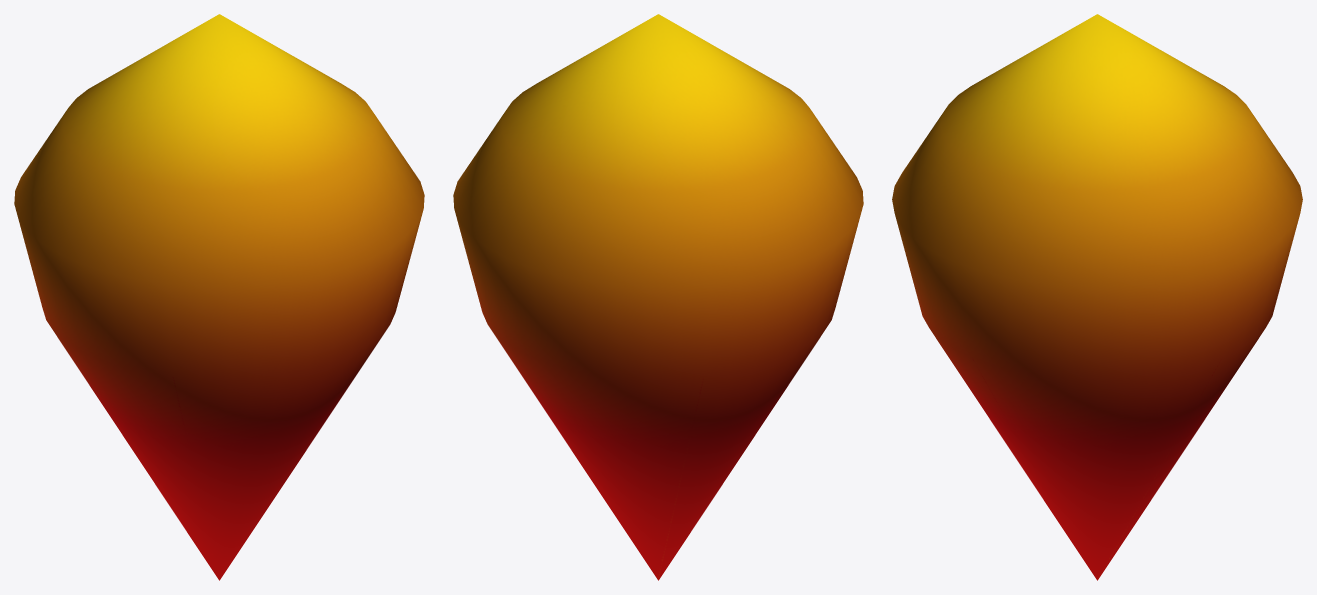
The model's file is Flame.fbx.
The picture shows the model from 3 angles, left to right: view 1: azimuth 30°, elevation 25°; view 2: azimuth 150°, elevation 25°; view 3: azimuth 270°, elevation 25°; orthographic projection.
Parts seen in each view (by area): view 1: Flame; view 2: Flame; view 3: Flame.
Boxes of the visible parts, box(x1,y1,x2,y2) form: Flame: box(14, 14, 424, 580); Flame: box(453, 14, 863, 580); Flame: box(892, 14, 1302, 580).
Size of the model in its own units: 630 by 959 by 630.
Materials: 1 (1 with a texture image).
